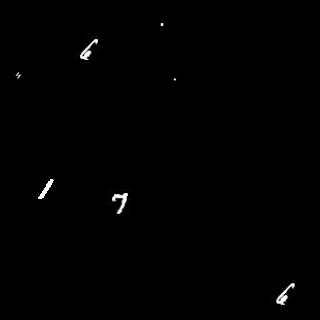dot: (159, 19, 166, 28), (171, 74, 178, 81)
four: (11, 67, 23, 82)
one: (38, 179, 55, 201)
seven: (111, 191, 130, 215)
six: (77, 35, 102, 64), (274, 282, 300, 305)
